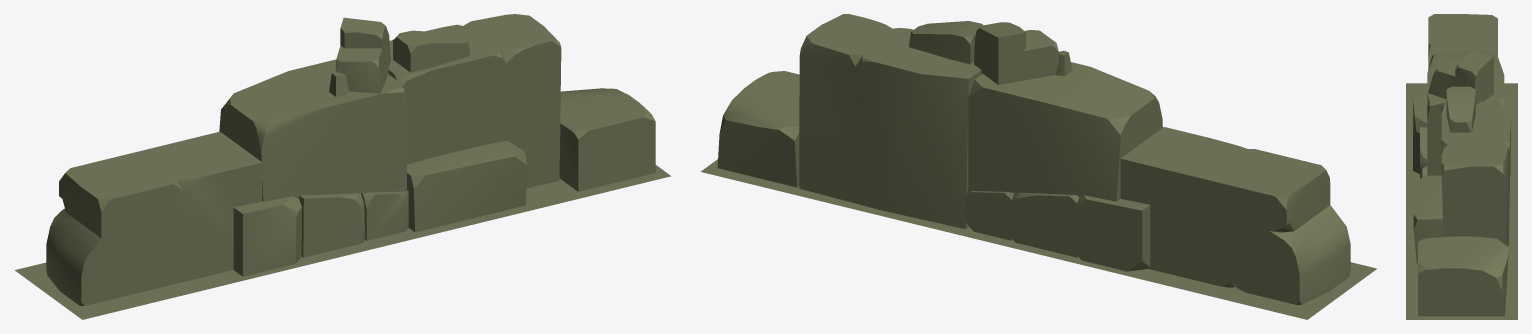
File: OBJ_MIDRock_01.FBX
3 views of the same model, side by side, from view 1: azimuth 30°, elevation 25°; view 2: azimuth 150°, elevation 25°; view 3: azimuth 270°, elevation 25° (orthographic). The views are drawn at different scales.
Parts seen in each view (by area): view 1: OBJ_MIDRock_01; view 2: OBJ_MIDRock_01; view 3: OBJ_MIDRock_01.
Part boxes in pixels (x1,y1,x2,y2): OBJ_MIDRock_01: (15,14,670,319); OBJ_MIDRock_01: (700,14,1376,319); OBJ_MIDRock_01: (1406,14,1517,319).
Size of the model in its own units: 30 by 9.25 by 6.
